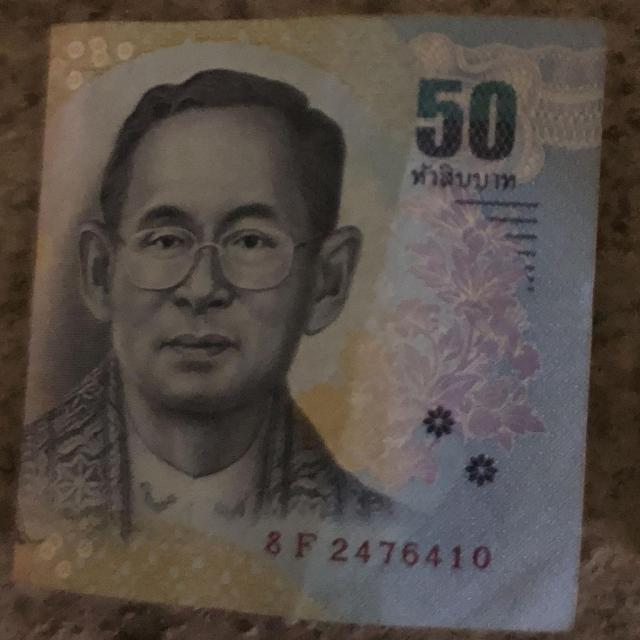THAI50: (16, 17, 605, 631)
